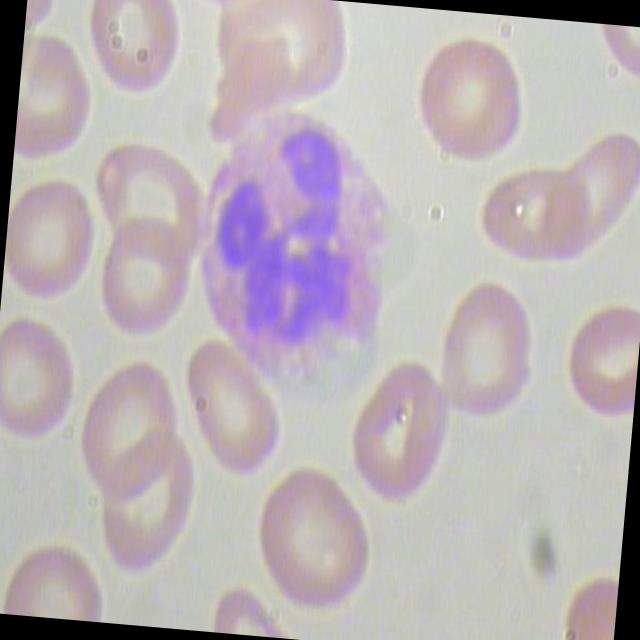RBC: (245, 458, 382, 618), (416, 266, 548, 430), (68, 356, 188, 512), (88, 432, 207, 587), (170, 336, 288, 492), (342, 356, 454, 518), (407, 32, 533, 172), (463, 158, 588, 277), (0, 174, 107, 311), (96, 212, 202, 348), (0, 315, 95, 452), (554, 297, 640, 437), (74, 0, 181, 107)
WBC: (170, 103, 418, 416)
